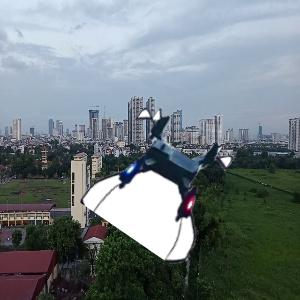drone: (98, 114, 231, 247)
